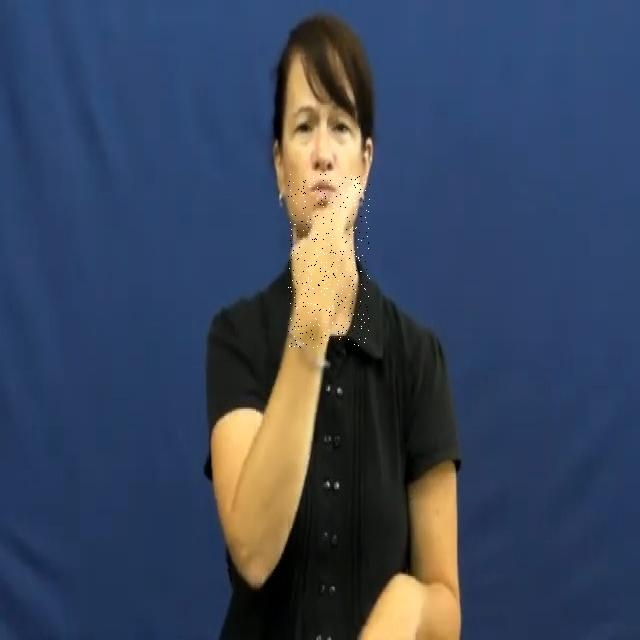menu: (288, 174, 370, 348)
